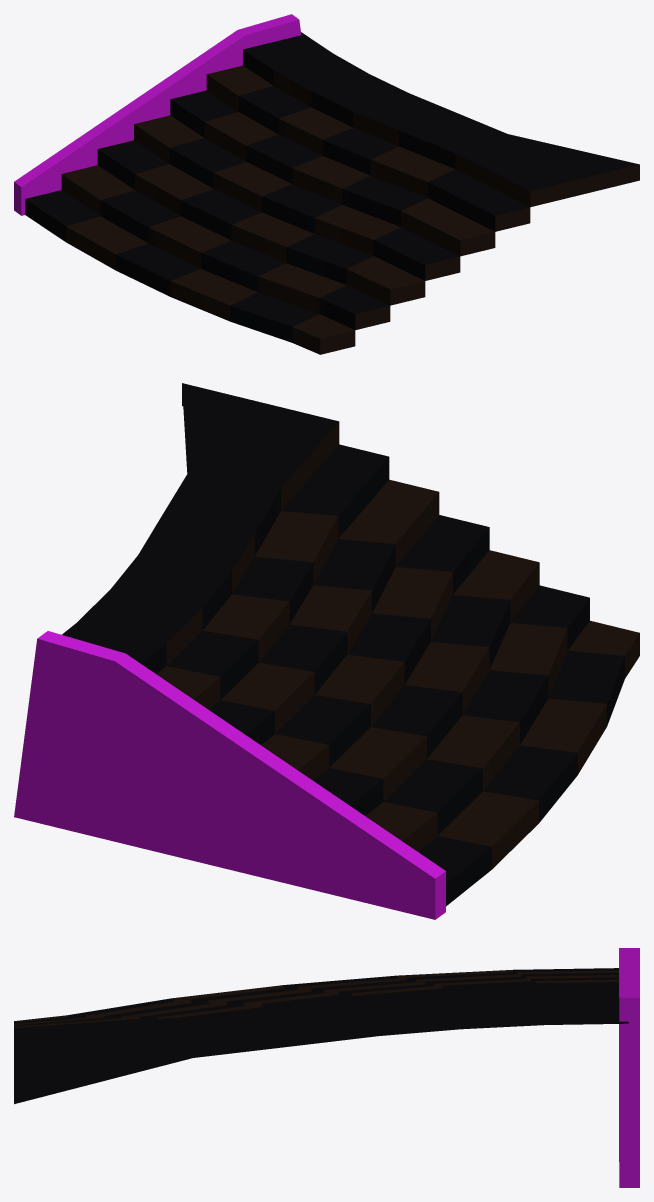
File: WW_stairs_prop.fbx
The picture shows the model from 3 angles, top to bottom: view 1: azimuth 30°, elevation 25°; view 2: azimuth 150°, elevation 25°; view 3: azimuth 270°, elevation 25°; orthographic projection. The views are drawn at different scales.
Parts seen in each view (by area): view 1: stairs_geo; view 2: stairs_geo; view 3: stairs_geo.
Boxes of the visible parts, x1,y1,x2,y2 form: stairs_geo: (14,14,639,354); stairs_geo: (14,383,639,919); stairs_geo: (14,948,639,1187).
Bounding box in the file's own units: 350 × 107 × 339.
